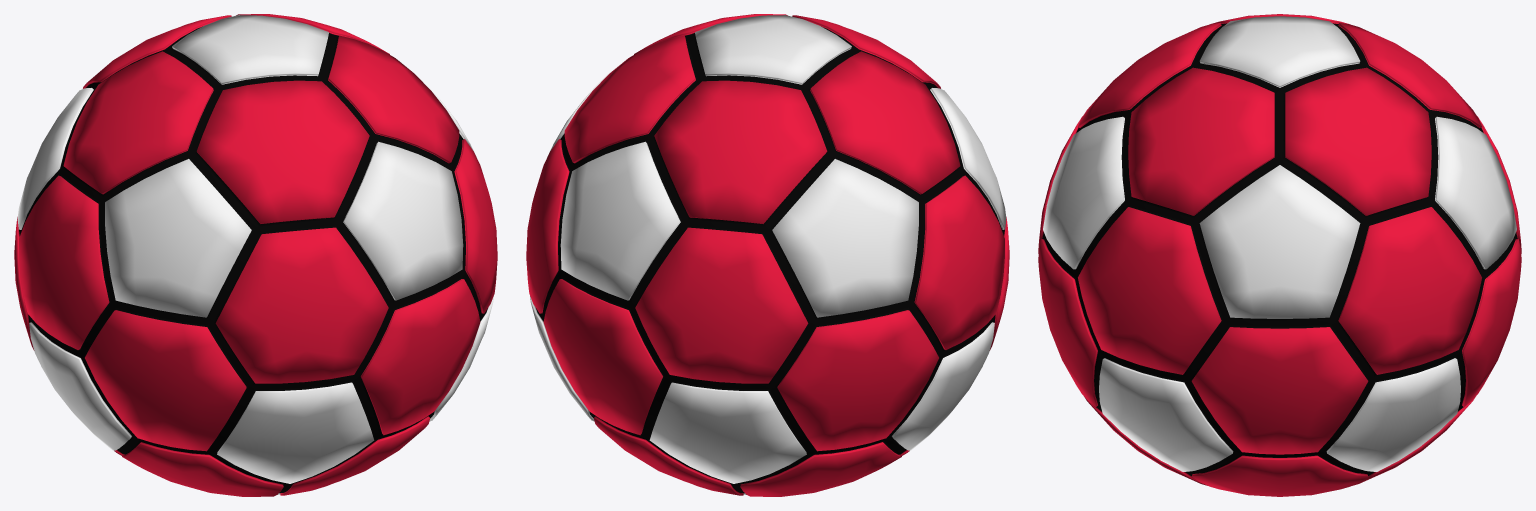
Rendered from FOOTBALL.fbx.
3 views of the same model, side by side, from view 1: azimuth 30°, elevation 25°; view 2: azimuth 150°, elevation 25°; view 3: azimuth 270°, elevation 25° (orthographic).
Visible parts, largest first — view 1: football; view 2: football; view 3: football.
Part boxes in pixels (x1,y1,x2,y2): football: (14,14,497,496); football: (526,14,1009,496); football: (1038,14,1521,496).
Bounding box in the file's own units: 168 × 168 × 168.
